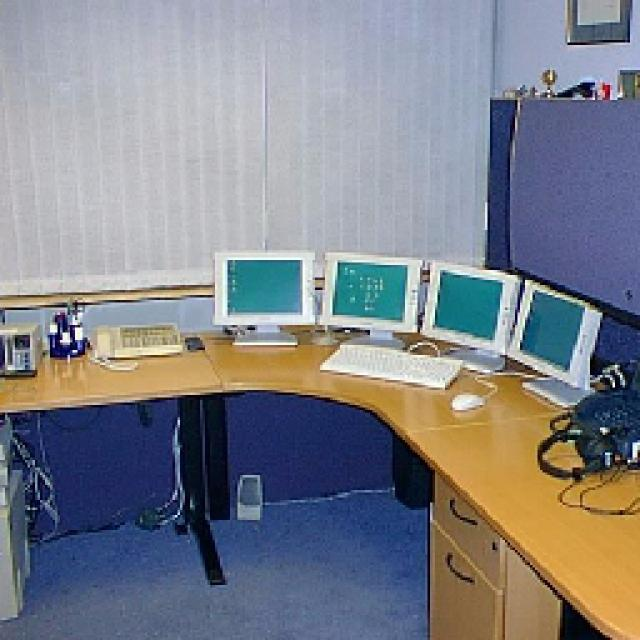books crop: (0, 418, 10, 500)
box contants: (0, 320, 42, 372), (612, 68, 638, 100)
cabinet door: (485, 95, 635, 315)
carpet floor: (0, 485, 425, 635)
computer crop: (0, 465, 32, 617)
curtains: (0, 0, 490, 292)
desk calendar: (0, 330, 638, 635)
desk separator: (42, 292, 85, 355)
file organizer: (428, 470, 558, 632)
headphones: (532, 418, 618, 478)
keyboard crop: (318, 340, 460, 385)
monitor crop: (502, 278, 602, 408), (420, 258, 515, 368), (208, 252, 312, 348), (318, 250, 420, 345)
mouse pad: (448, 390, 482, 405)
painting crop: (565, 0, 628, 42)
phone charger: (570, 385, 632, 468), (92, 318, 182, 358), (90, 322, 182, 358)
speaker: (232, 472, 258, 518)
trophy: (535, 62, 558, 90)
